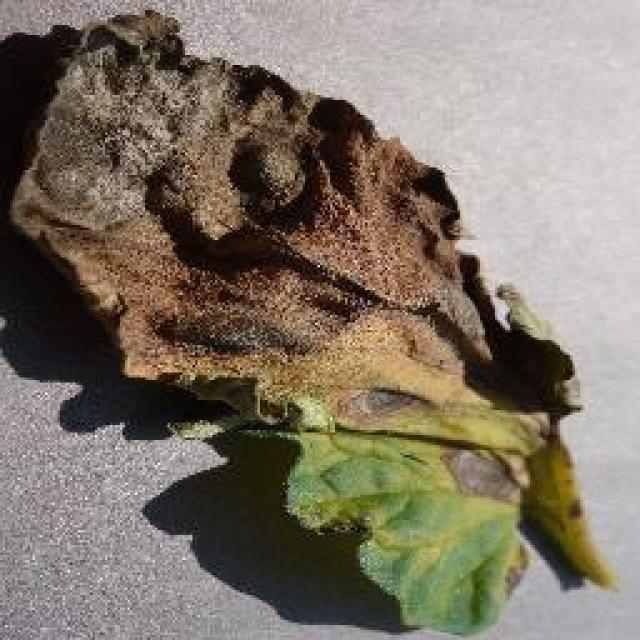Tomato Early blight leaf: (31, 14, 604, 621)
